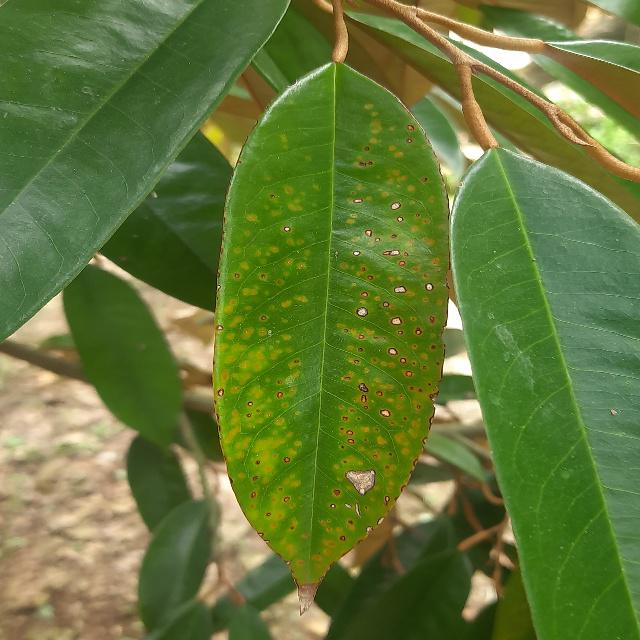Leaf Spot: (207, 39, 457, 629)
